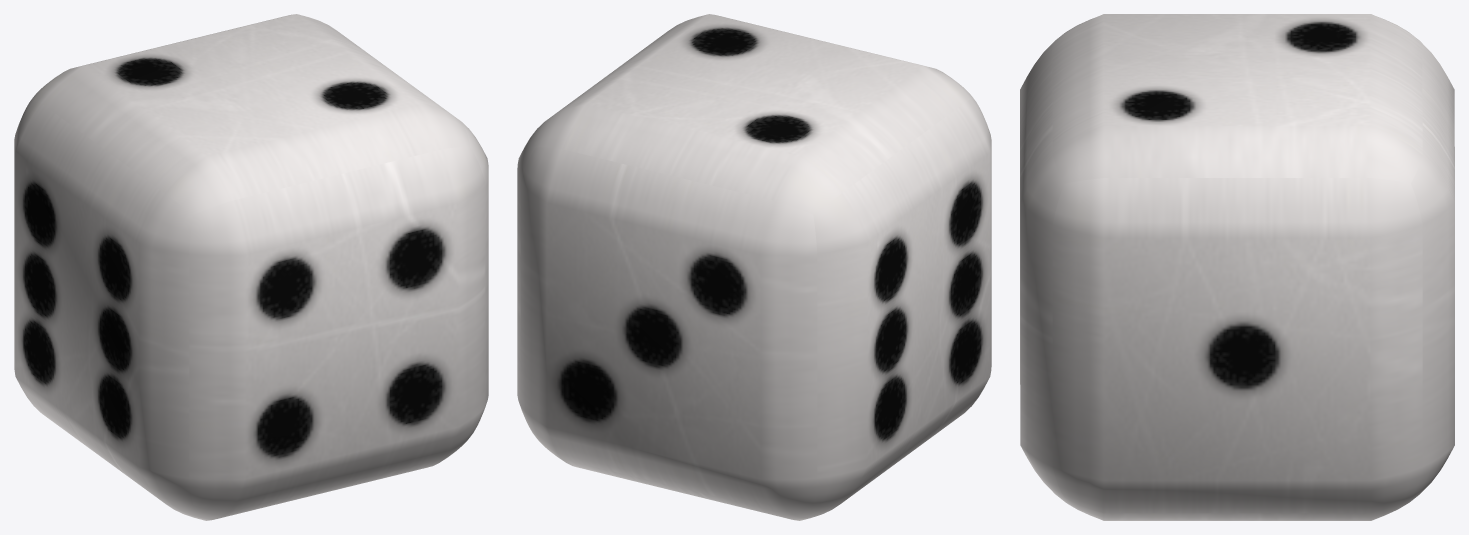
The model's file is Dice.obj.
3 views of the same model, side by side, from view 1: azimuth 30°, elevation 25°; view 2: azimuth 150°, elevation 25°; view 3: azimuth 270°, elevation 25° (orthographic). The views are drawn at different scales.
Visible parts, largest first — view 1: AlteredCollider_single_die.001; view 2: AlteredCollider_single_die.001; view 3: AlteredCollider_single_die.001.
Part boxes in pixels (x1,y1,x2,y2): AlteredCollider_single_die.001: [14, 14, 488, 520]; AlteredCollider_single_die.001: [517, 14, 991, 520]; AlteredCollider_single_die.001: [1020, 14, 1454, 520].
Size of the model in its own units: 0.0432 by 0.0432 by 0.0432.
